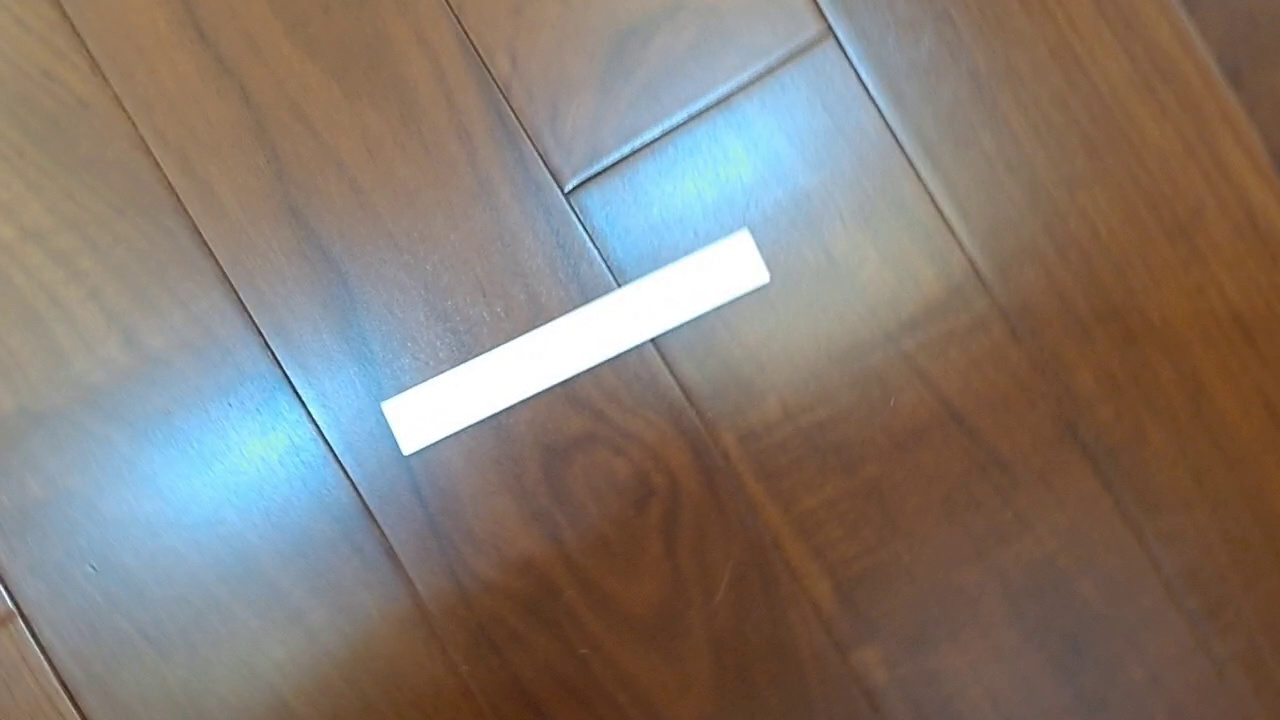ruler: (377, 224, 772, 458)
